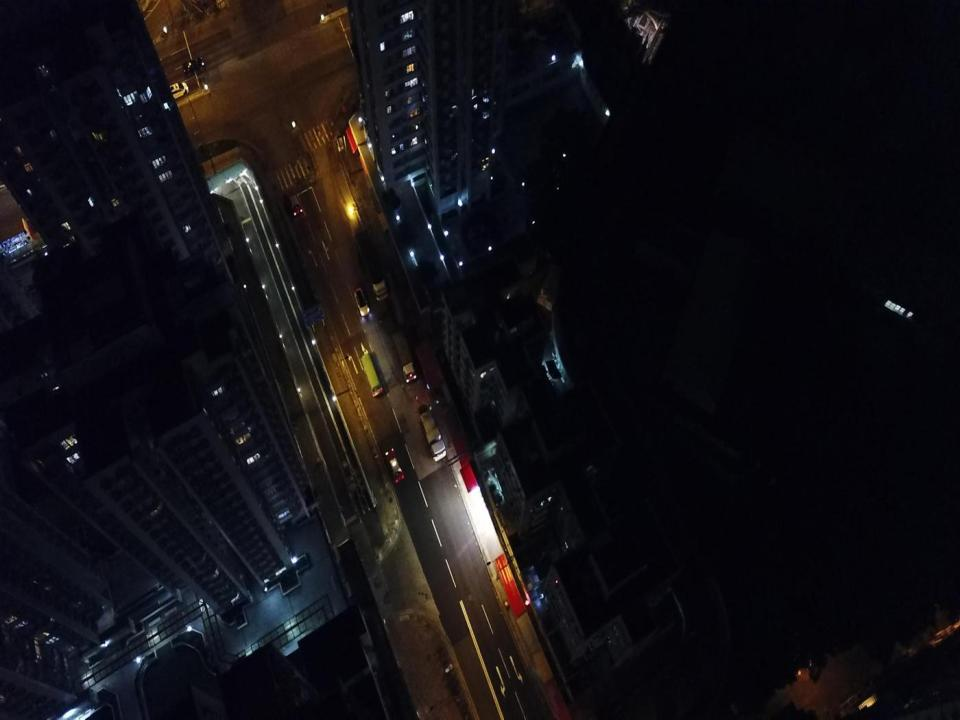bus: (360, 352, 383, 397)
car: (385, 447, 405, 483), (353, 287, 370, 317), (168, 81, 190, 102), (183, 57, 204, 73), (289, 194, 303, 216)
truck: (354, 230, 389, 302), (420, 408, 446, 461), (391, 331, 417, 383)
